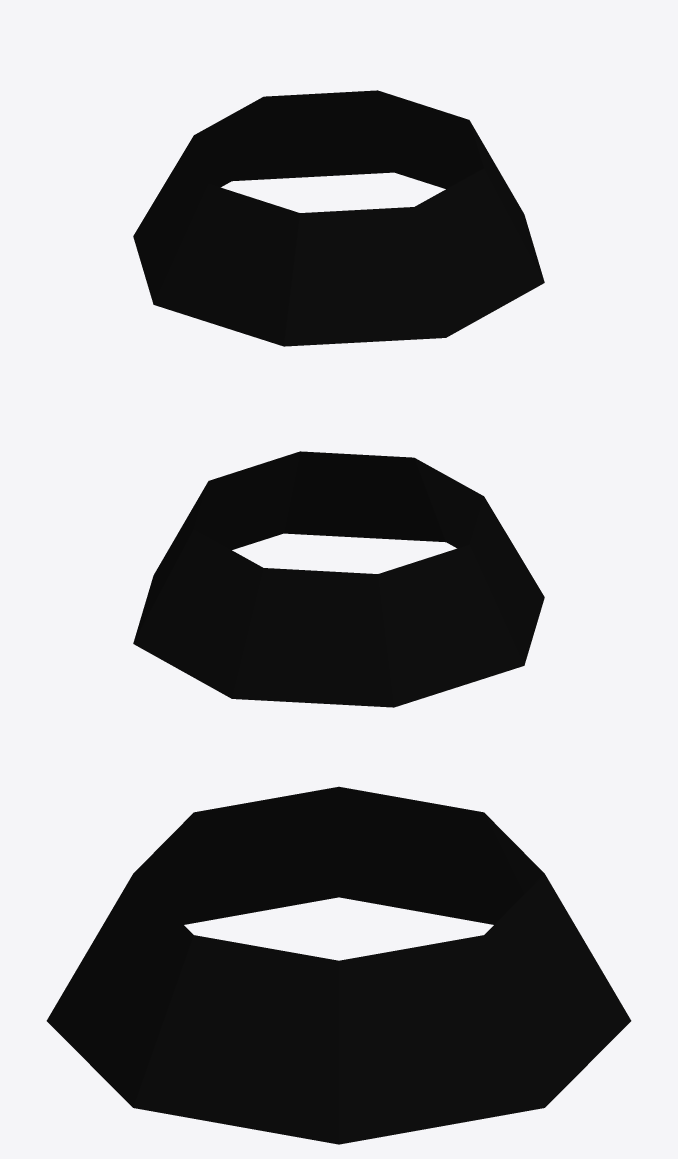
Rendered from 21_efe.gltf.
The picture shows the model from 3 angles, top to bottom: view 1: azimuth 30°, elevation 25°; view 2: azimuth 150°, elevation 25°; view 3: azimuth 270°, elevation 25°; orthographic projection. The views are drawn at different scales.
Size of the model in its own units: 300 by 75 by 300.
Materials: 1 (1 with a texture image).
